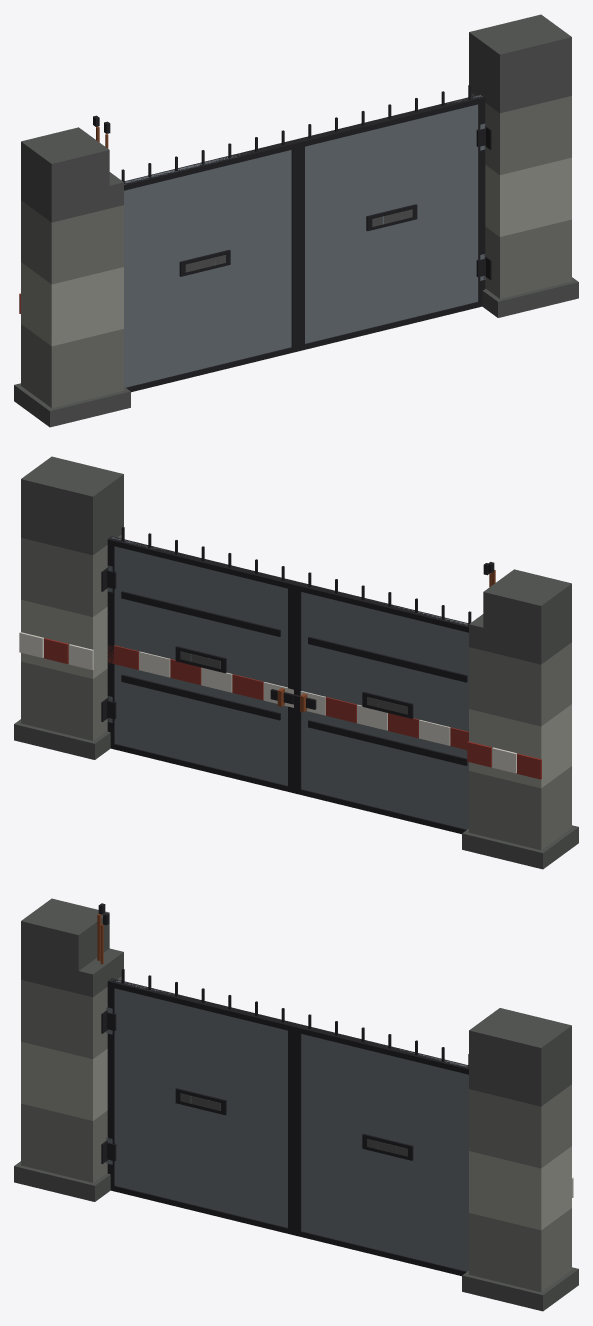
File: camp_gate_concrete.glb
The picture shows the model from 3 angles, top to bottom: view 1: azimuth 30°, elevation 25°; view 2: azimuth 150°, elevation 25°; view 3: azimuth 330°, elevation 25°; orthographic projection.
Visible parts, largest first — view 1: camp_gate_concrete, gate_leaf_r, gate_leaf_l; view 2: camp_gate_concrete, gate_leaf_r, gate_leaf_l; view 3: camp_gate_concrete, gate_leaf_l, gate_leaf_r.
Boxes of the visible parts, <box> form: camp_gate_concrete: <box>14,14,578,427</box>; gate_leaf_r: <box>294,85,485,351</box>; gate_leaf_l: <box>121,130,298,392</box>; camp_gate_concrete: <box>14,456,578,869</box>; gate_leaf_r: <box>107,527,298,793</box>; gate_leaf_l: <box>293,572,471,834</box>; camp_gate_concrete: <box>14,898,578,1311</box>; gate_leaf_l: <box>107,969,298,1235</box>; gate_leaf_r: <box>294,1014,468,1276</box>.
Size of what is drawn, in the model's own units: 8.5 by 4.28 by 1.
Materials: 2 (2 with a texture image).
